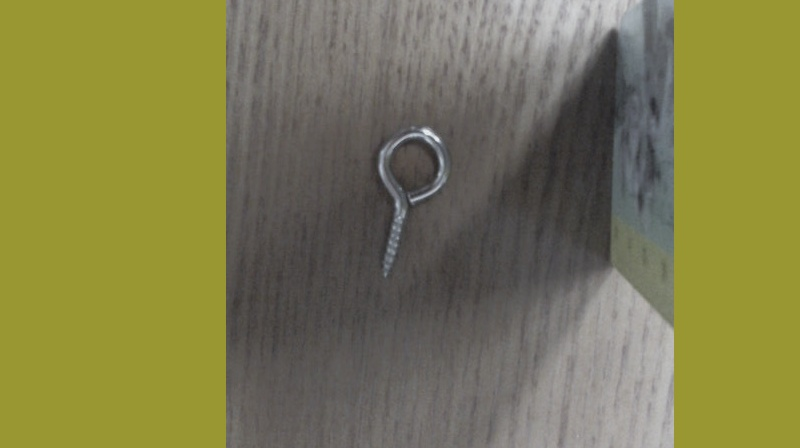O001: (373, 120, 452, 280)
